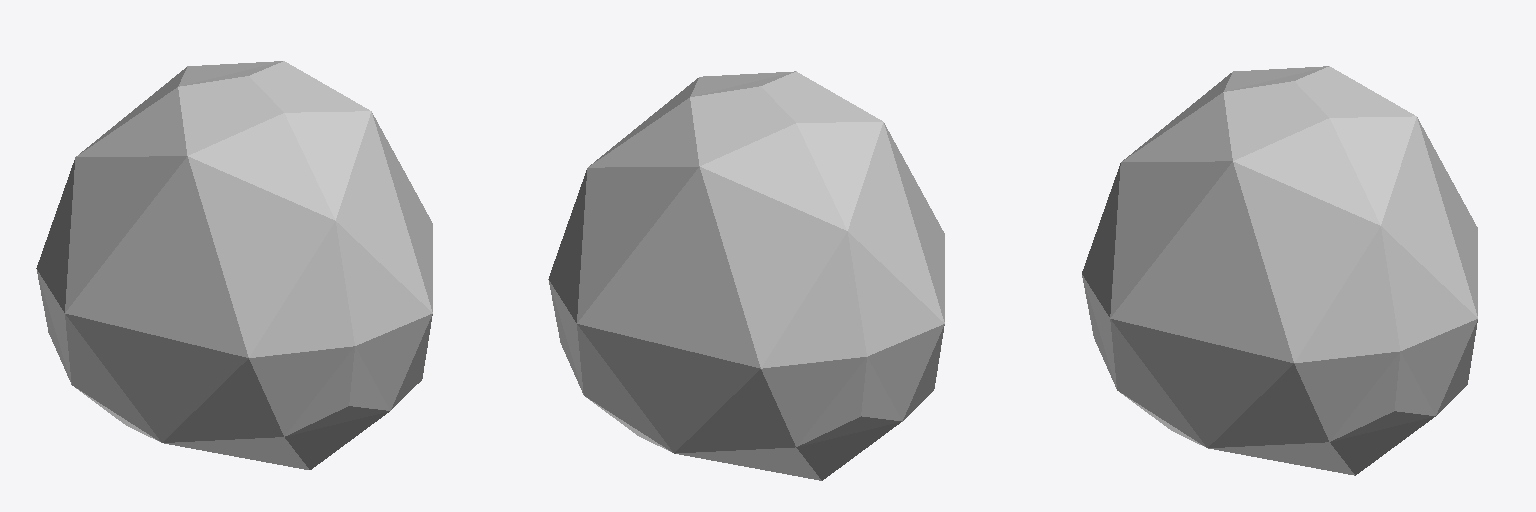
File: GeoSphere64.obj
3 renders of one model, left to right at view 1: azimuth 30°, elevation 25°; view 2: azimuth 150°, elevation 25°; view 3: azimuth 270°, elevation 25°, orthographic.
Visible parts, largest first — view 1: GD_mesh.013; view 2: GD_mesh.013; view 3: GD_mesh.013.
Boxes of the visible parts, x1,y1,x2,y2 form: GD_mesh.013: [36, 61, 432, 469]; GD_mesh.013: [548, 71, 944, 480]; GD_mesh.013: [1082, 66, 1477, 475].
Size of the model in its own units: 2 by 1.82 by 1.87.